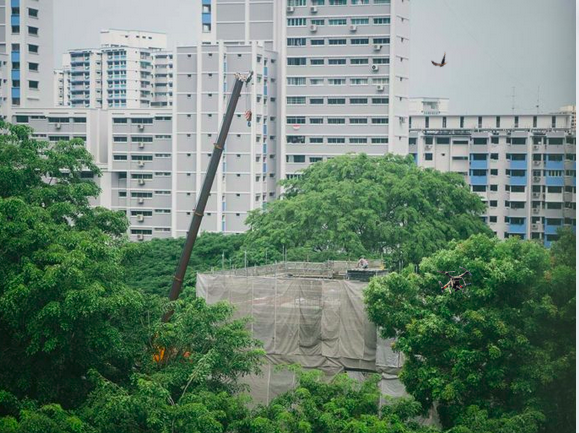drone_other: (438, 266, 474, 295)
